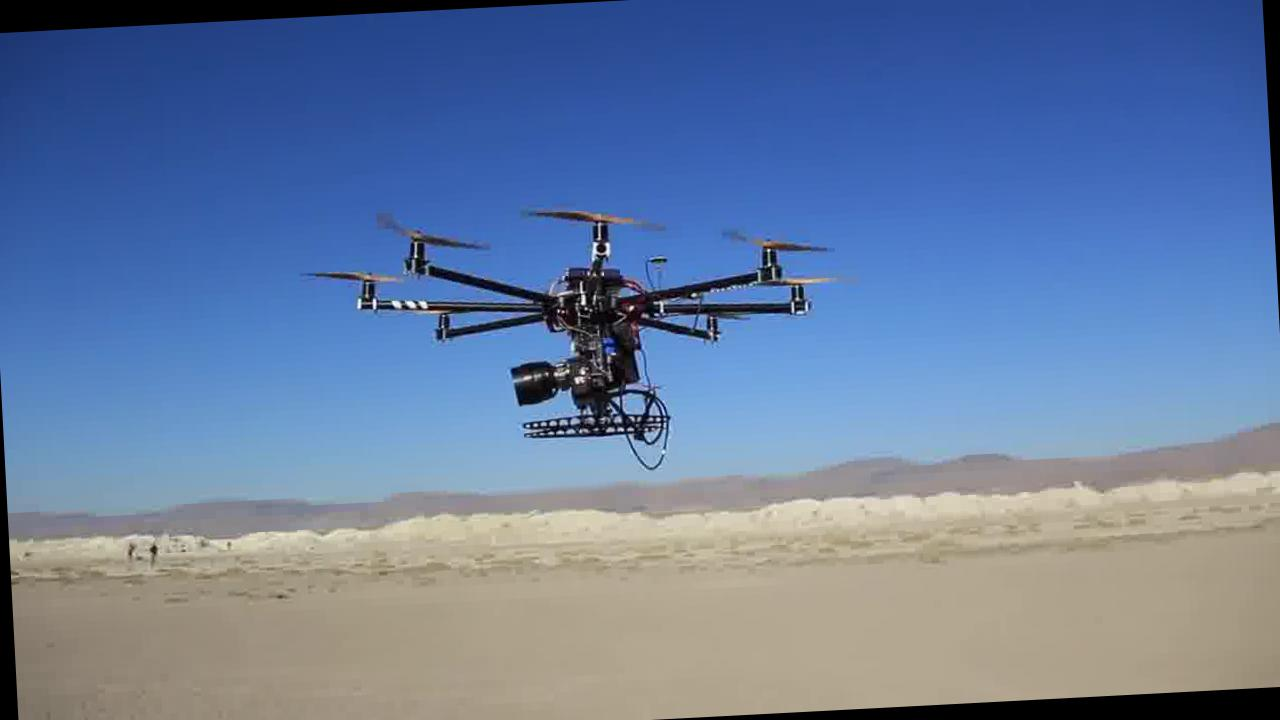drone: (337, 186, 839, 454)
